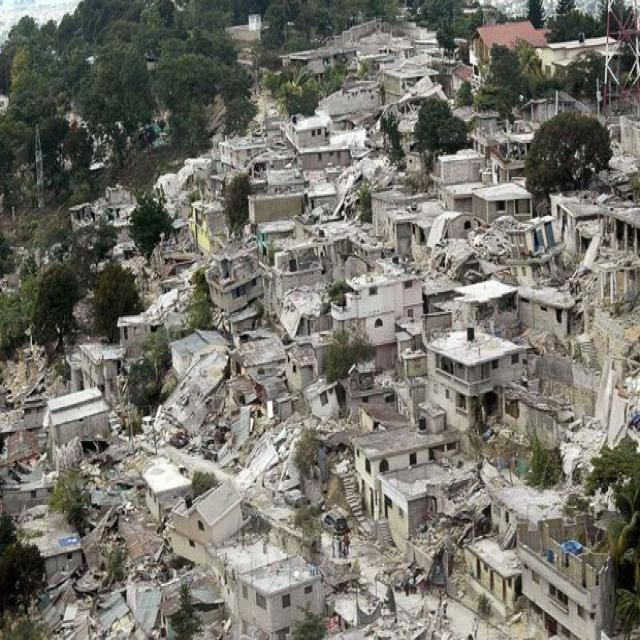collapsed_building: (488, 312, 626, 491), (266, 227, 377, 348), (175, 339, 278, 466), (338, 82, 436, 207), (68, 434, 145, 566), (278, 370, 377, 472), (402, 472, 475, 589), (399, 204, 472, 316), (479, 216, 558, 294), (201, 230, 259, 335), (128, 227, 186, 300), (66, 182, 125, 248), (4, 331, 45, 396)
